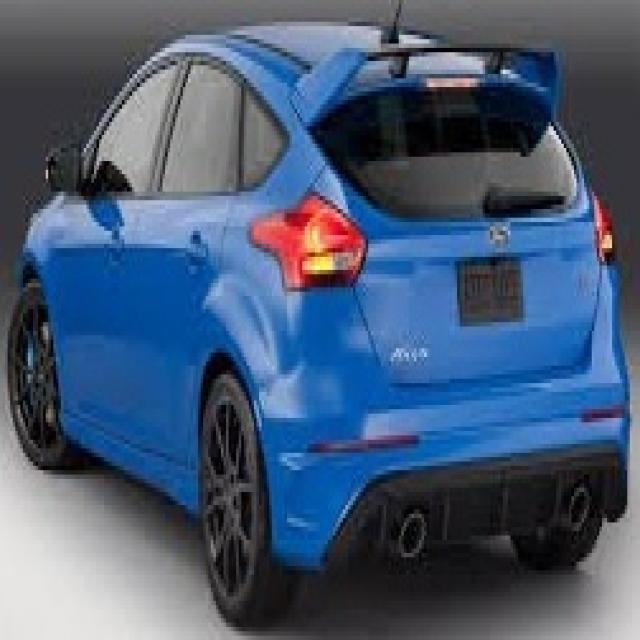blue: (14, 0, 630, 600)
